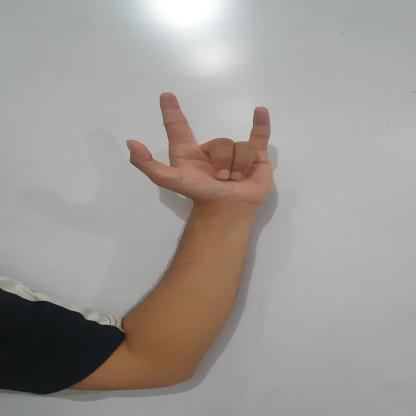ILoveYou: (121, 90, 298, 216)
